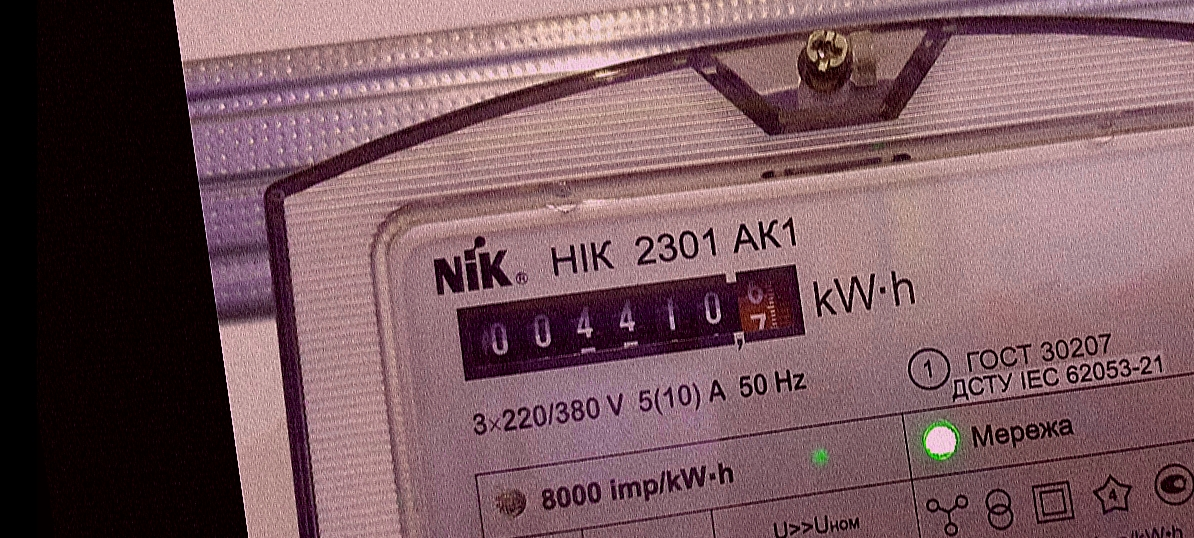0: (486, 317, 513, 357), (701, 288, 726, 326), (531, 309, 554, 349)
1: (662, 294, 680, 332)
4: (571, 300, 598, 341), (614, 295, 641, 336)
6: (747, 277, 767, 305)
7: (749, 310, 770, 332)
screen: (443, 246, 821, 395)
